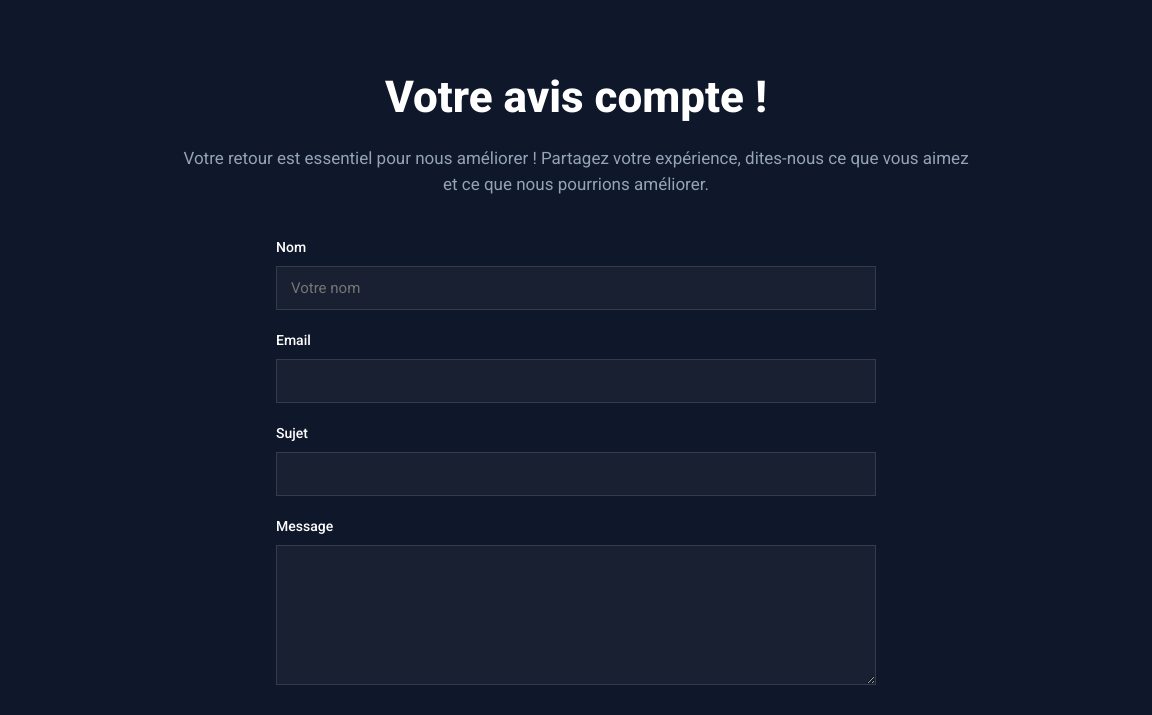
Scenario: Contact › exige le consentement RGPD avant envoi
Type "Jean Dupont" into the field labelled "Nom".
click(576, 288); type("Jean Dupont")  # box 276,266 -> 876,310
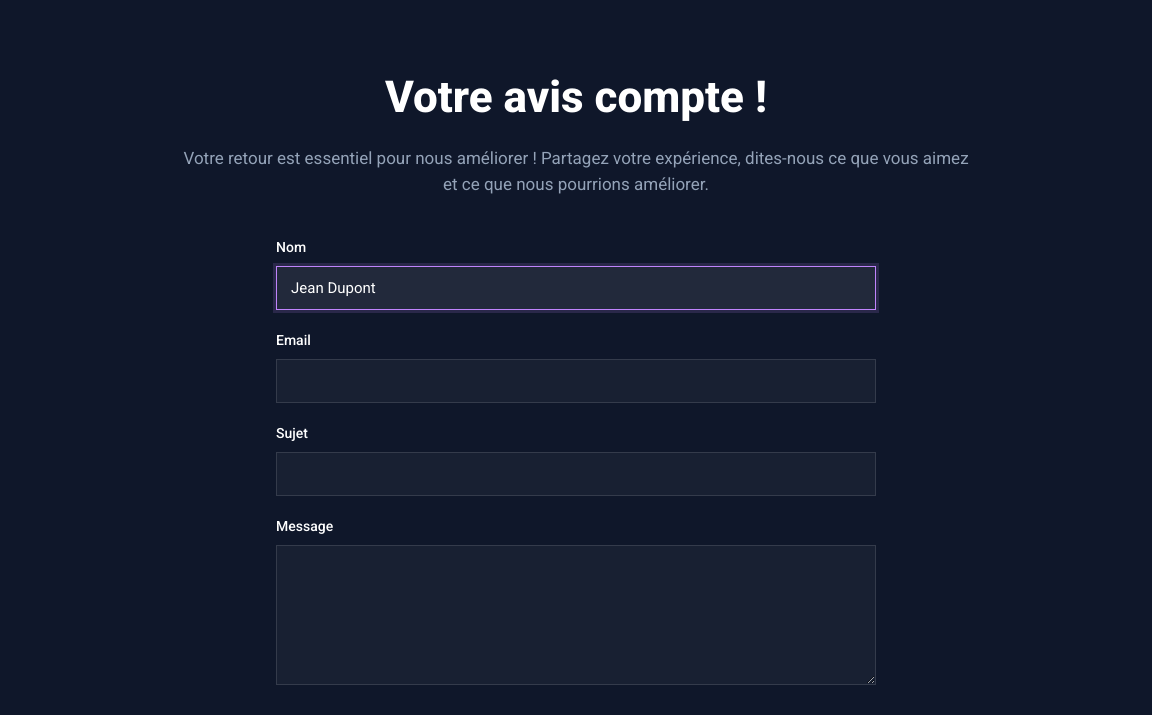
Type "jean@weeb.local" into the field labelled "Email".
click(576, 381); type("jean@weeb.local")  # box 276,359 -> 876,403
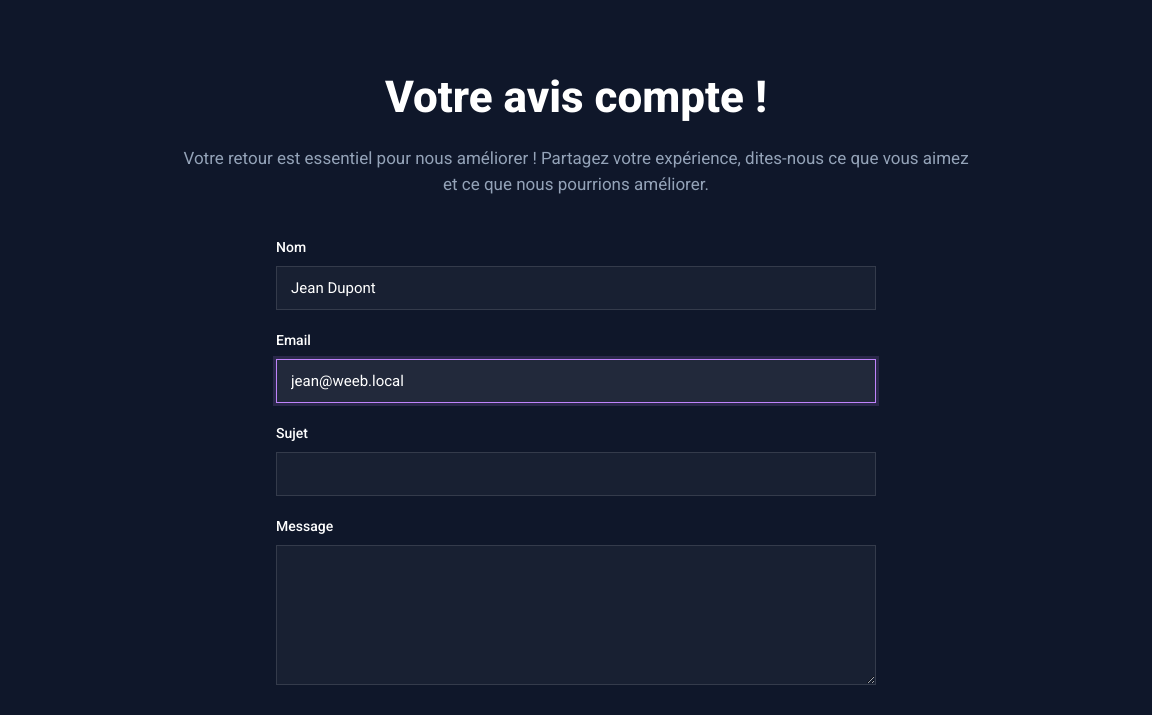
Type "Question" into the field labelled "Sujet".
click(576, 474); type("Question")  # box 276,452 -> 876,496
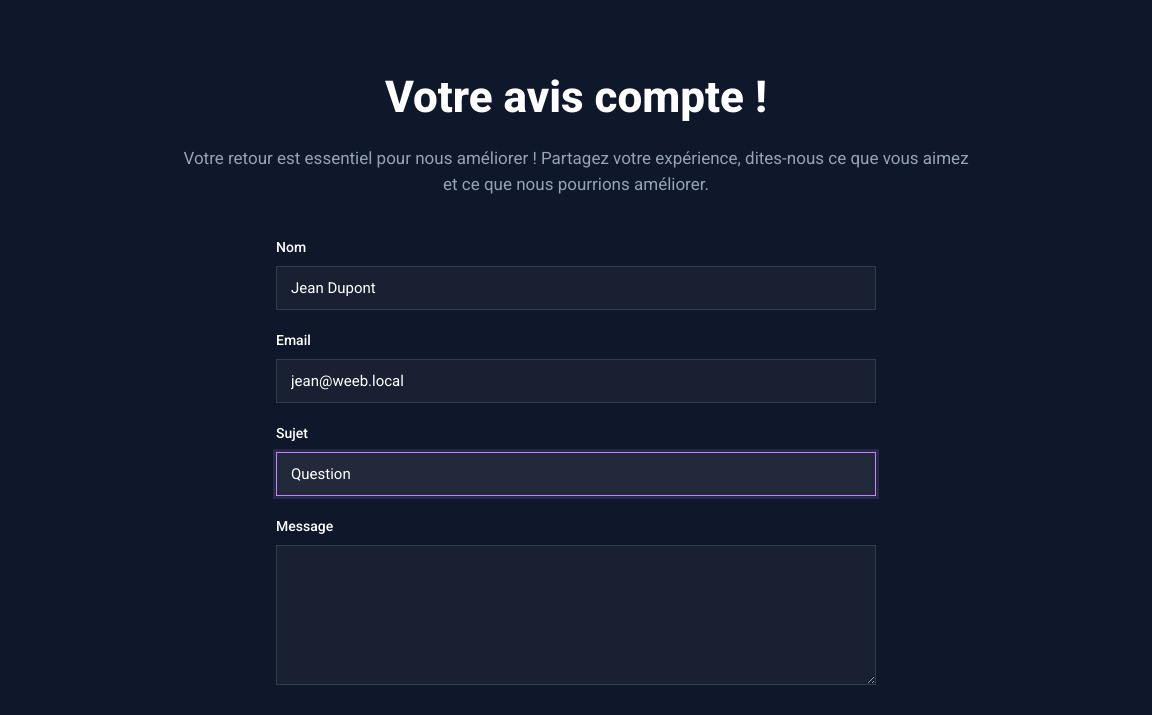
Type "Bonjour" into the text box labelled "Message".
click(576, 615); type("Bonjour")  # box 276,545 -> 876,685
(page scrolled)
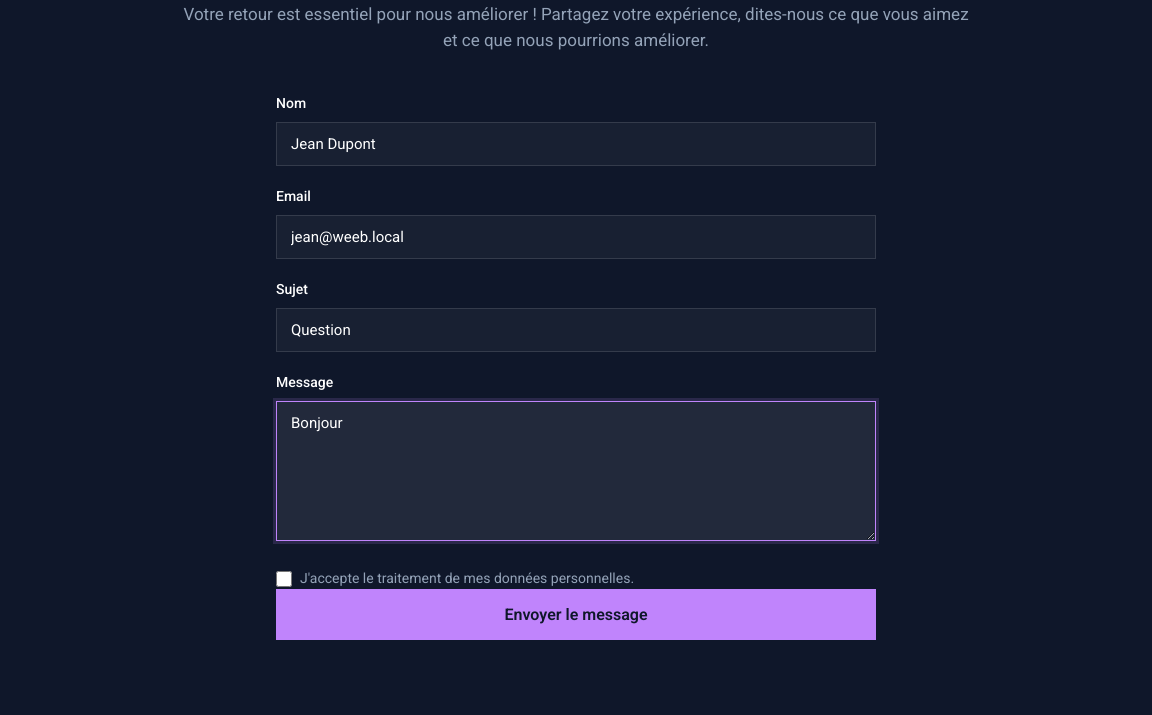
Click the button "Envoyer le message".
click(576, 614)  # box 276,589 -> 876,640
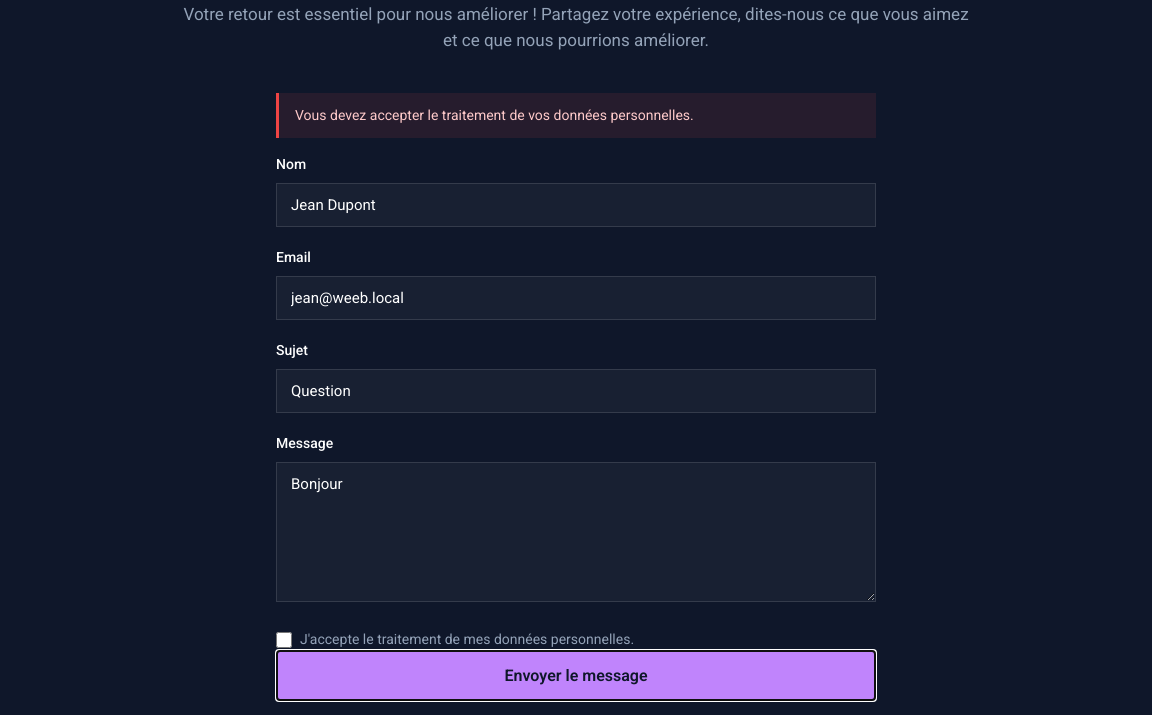
Check: the text "Vous devez accepter le traitement de vos données personnelles." is shown, box 276,93 -> 876,138
